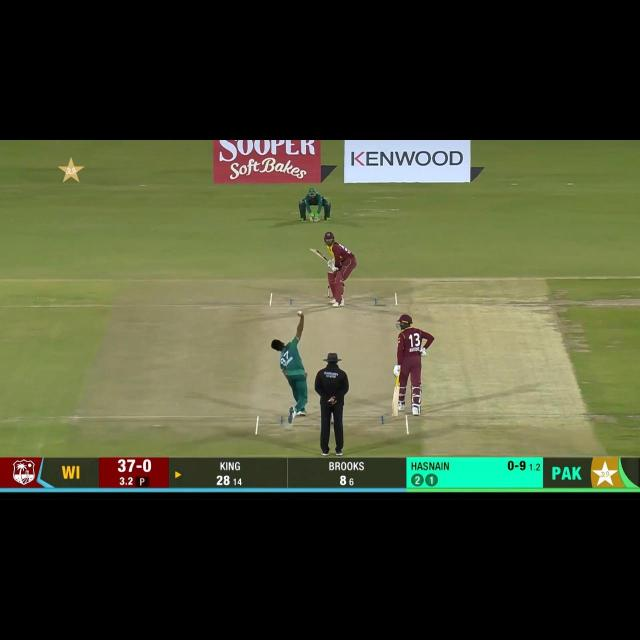bat: (309, 247, 330, 263), (392, 386, 400, 418)
toe: (392, 409, 399, 418), (308, 247, 316, 253)
